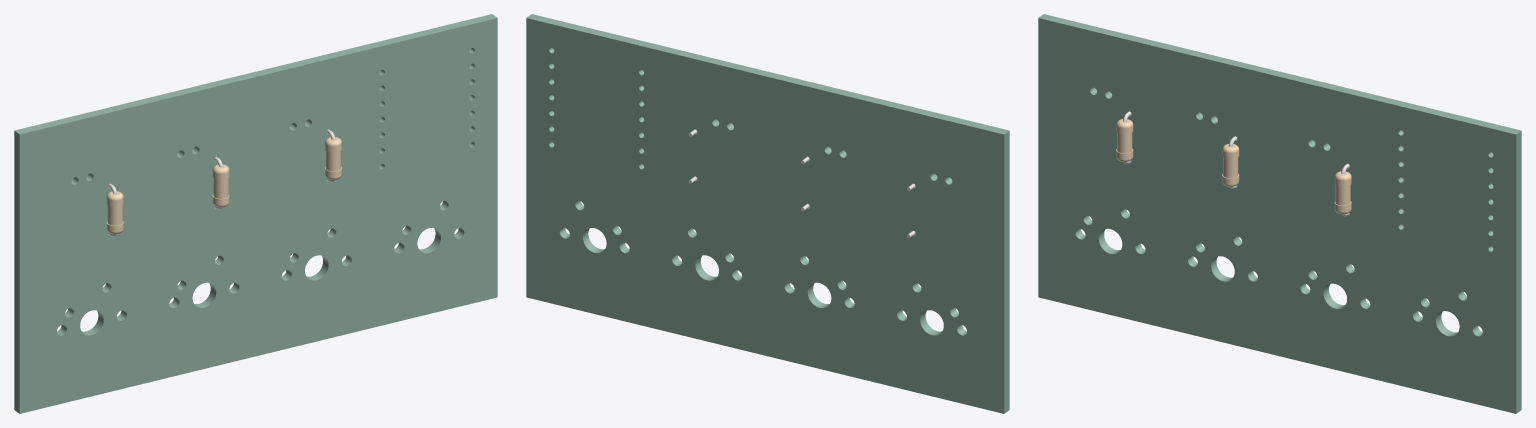
File: pcb.gltf
The picture shows the model from 3 angles, left to right: view 1: azimuth 30°, elevation 25°; view 2: azimuth 150°, elevation 25°; view 3: azimuth 330°, elevation 25°; orthographic projection.
Visible parts, largest first — view 1: pathfinder_PCB, R_Axial_DIN0207_L63mm_D25mm_P762mm_Horizontal (×3); view 2: pathfinder_PCB; view 3: pathfinder_PCB, R_Axial_DIN0207_L63mm_D25mm_P762mm_Horizontal (×3).
Boxes of the visible parts, x1,y1,x2,y2 form: pathfinder_PCB: (14, 14, 497, 413); R_Axial_DIN0207_L63mm_D25mm_P762mm_Horizontal (×3): (106, 129, 341, 236); pathfinder_PCB: (526, 14, 1009, 413); pathfinder_PCB: (1038, 14, 1521, 413); R_Axial_DIN0207_L63mm_D25mm_P762mm_Horizontal (×3): (1116, 111, 1351, 216).
Bounding box in the file's own units: 0.081 × 0.0452 × 0.0055.
